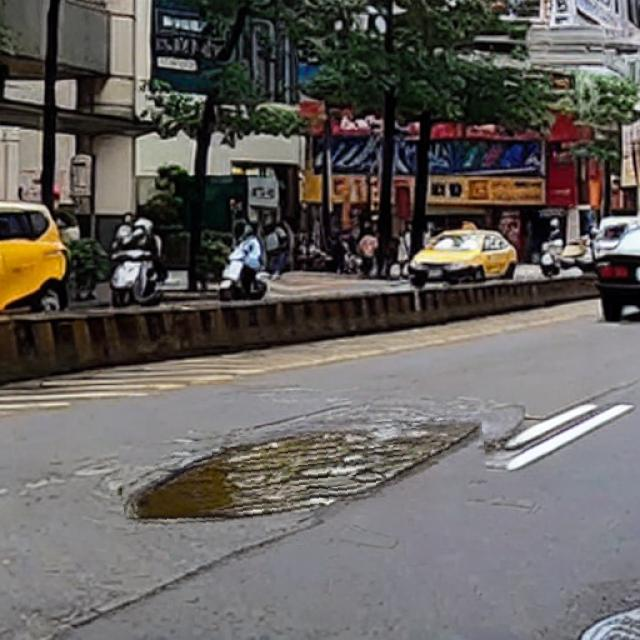puddle: (120, 422, 489, 527)
